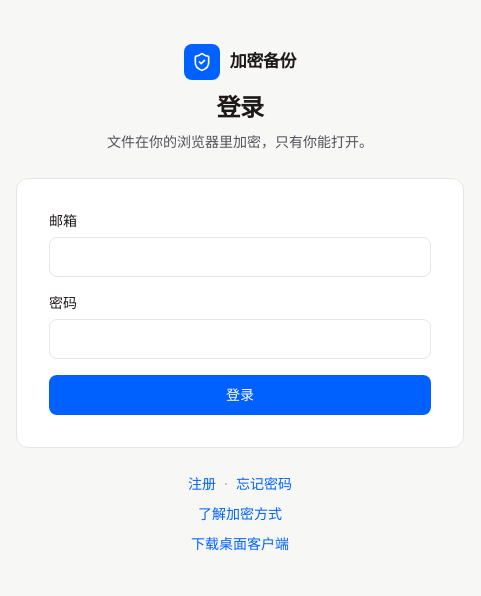
Test: 登录页 › 密码错误时在表单顶部显示错误，密码框保持可编辑且按钮恢复可用
Expected: the heading "登录" is shown, [217, 93, 263, 122]
Step 1. Type "user@example.com" into the field with test id "login-email" → (240, 257), box [49, 237, 431, 277]
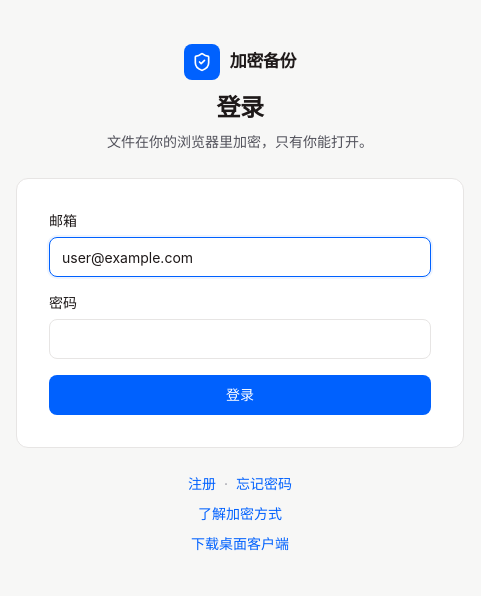
Step 2. Type "wrong password" into the password field with test id "login-password" → (240, 339), box [49, 319, 431, 359]
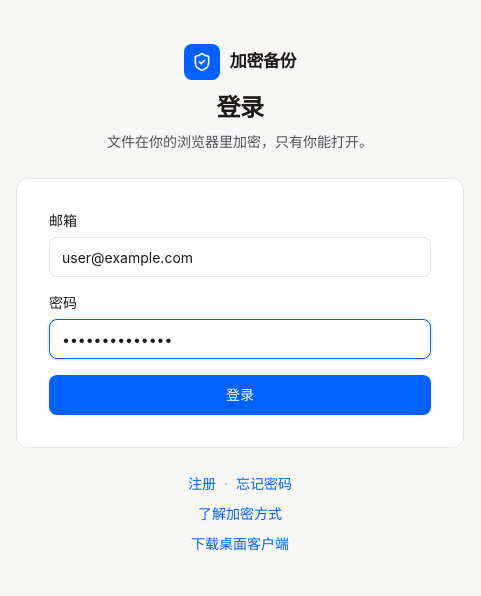
Step 3. Click the button with test id "login-submit" → (240, 395), box [49, 375, 431, 415]
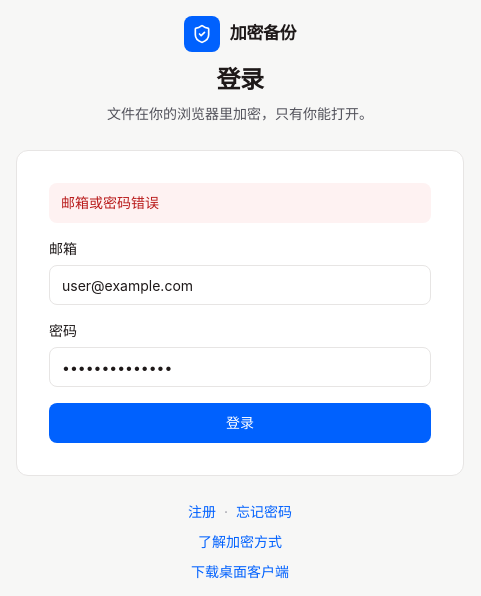
Expected: the button with test id "login-submit" is enabled, [49, 403, 431, 443]
Now the message reads "邮箱或密码错误", box [61, 194, 159, 211]
